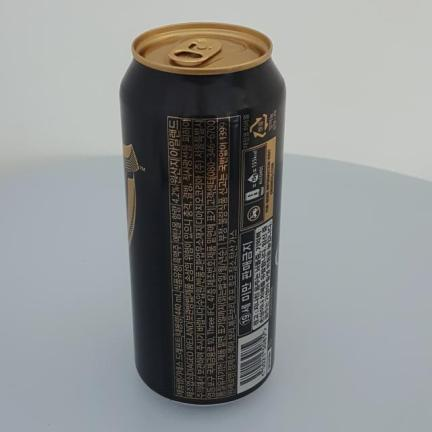can: (120, 23, 285, 405)
